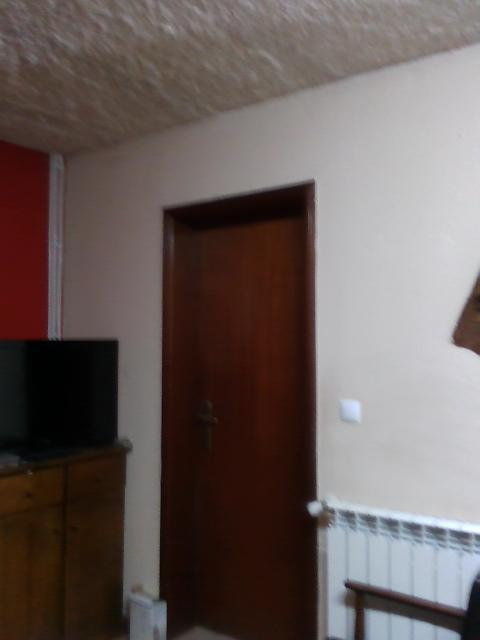door: (173, 219, 310, 640)
